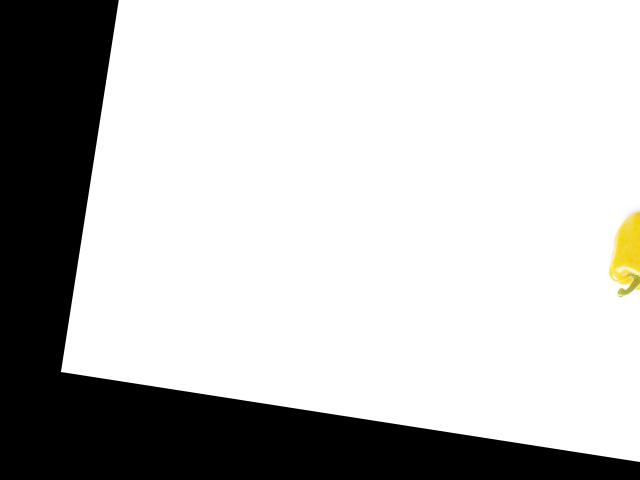bell_pepper: (596, 206, 640, 308)
